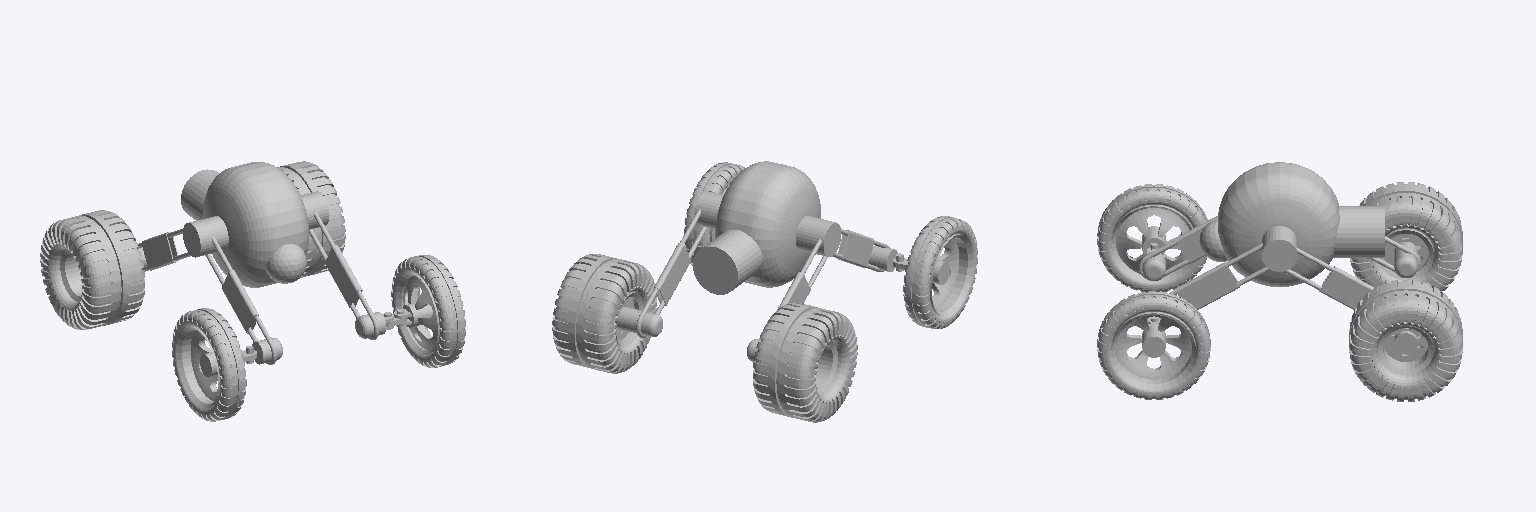
File: Rover.obj
3 views of the same model, side by side, from view 1: azimuth 30°, elevation 25°; view 2: azimuth 150°, elevation 25°; view 3: azimuth 270°, elevation 25° (orthographic).
Visible parts, largest first — view 1: Cylinder; view 2: Cylinder; view 3: Cylinder.
Part boxes in pixels (x1,y1,x2,y2): Cylinder: (40, 161, 465, 421); Cylinder: (552, 161, 977, 422); Cylinder: (1097, 162, 1462, 401).
Size of the model in its own units: 4.79 by 3.11 by 5.89.